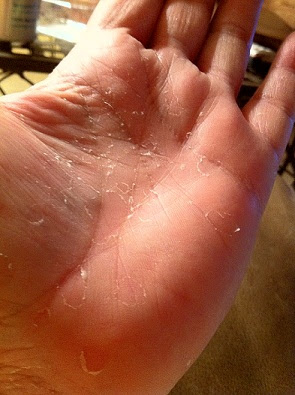Diseased: (9, 55, 249, 347)
